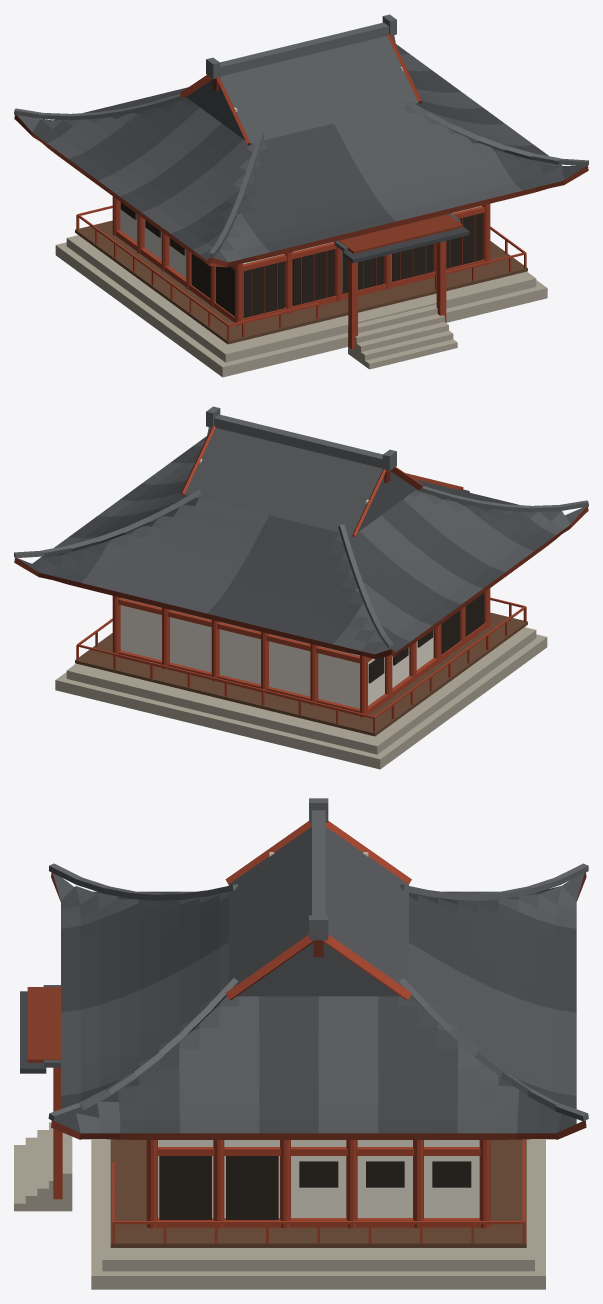
File: jodoji_hondo.glb
3 views of the same model, one above another, from view 1: azimuth 30°, elevation 25°; view 2: azimuth 150°, elevation 25°; view 3: azimuth 270°, elevation 25° (orthographic). The views are drawn at different scales.
Visible parts, largest first — view 1: jodoji_hondo; view 2: jodoji_hondo; view 3: jodoji_hondo.
Part boxes in pixels (bbox=[...]): jodoji_hondo: bbox=[14, 14, 588, 377]; jodoji_hondo: bbox=[14, 406, 588, 769]; jodoji_hondo: bbox=[14, 798, 588, 1289].
Bounding box in the file's own units: 21.54 × 12.84 × 20.73.
